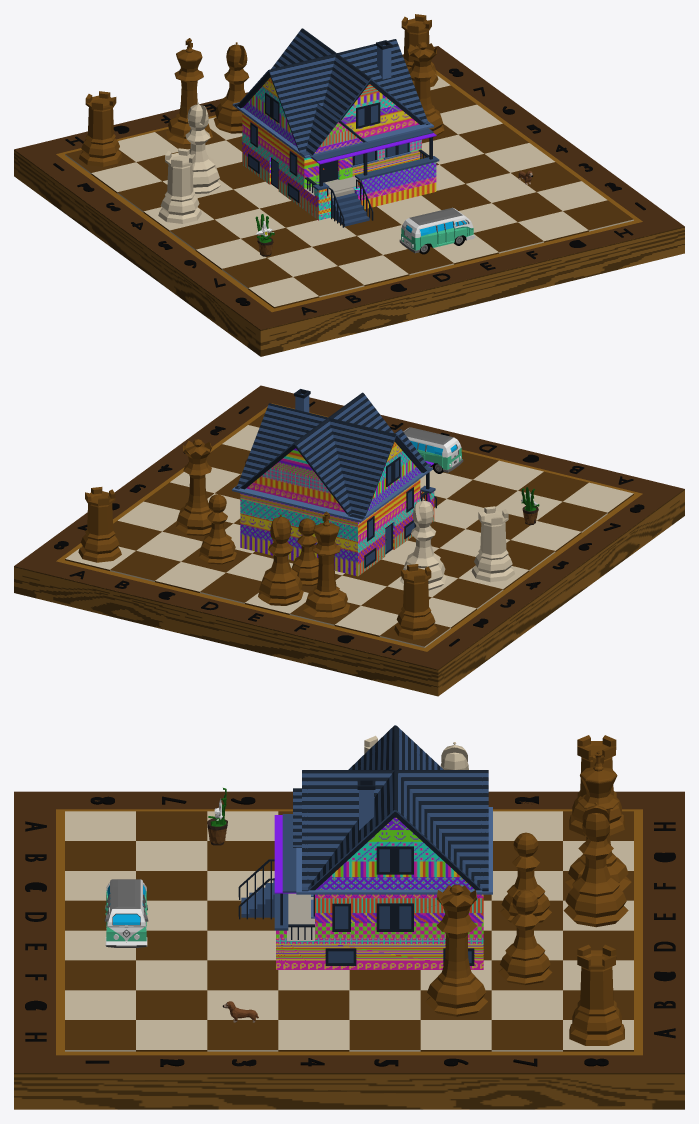
3 renders of one model, top to bottom at view 1: azimuth 30°, elevation 25°; view 2: azimuth 150°, elevation 25°; view 3: azimuth 270°, elevation 25°, orthographic. The views are drawn at different scales.
Parts seen in each view (by area): view 1: Cube.002, Cube.676, VEHICLES_VAN, OBJRANDOM_MONJA BLANCA; view 2: Cube.002, Cube.676, VEHICLES_VAN, OBJRANDOM_MONJA BLANCA; view 3: Cube.002, Cube.676, VEHICLES_VAN, OBJRANDOM_MONJA BLANCA.
Boxes of the visible parts, left/top/right/bottom form: Cube.002: left=14, top=14, right=684, bottom=356; Cube.676: left=232, top=28, right=439, bottom=227; VEHICLES_VAN: left=399, top=207, right=475, bottom=254; OBJRANDOM_MONJA BLANCA: left=255, top=214, right=274, bottom=256; Cube.002: left=14, top=385, right=684, bottom=696; Cube.676: left=232, top=389, right=436, bottom=576; VEHICLES_VAN: left=403, top=427, right=463, bottom=473; OBJRANDOM_MONJA BLANCA: left=521, top=487, right=539, bottom=525; Cube.002: left=14, top=735, right=684, bottom=1109; Cube.676: left=238, top=725, right=492, bottom=969; VEHICLES_VAN: left=104, top=879, right=148, bottom=947; OBJRANDOM_MONJA BLANCA: left=207, top=788, right=227, bottom=845.
Size of the model in its own units: 3981 by 1484 by 4012.
44 materials, 6 textured.
